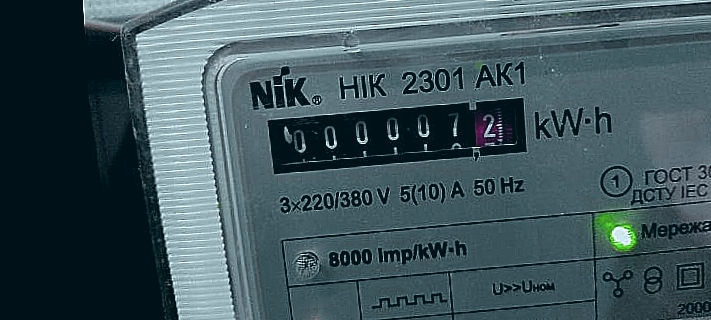0: (382, 113, 401, 141), (351, 116, 369, 145), (289, 125, 307, 153), (414, 110, 431, 139), (321, 121, 338, 149)
2: (479, 111, 497, 138)
7: (445, 107, 462, 138)
screen: (255, 90, 538, 179)
